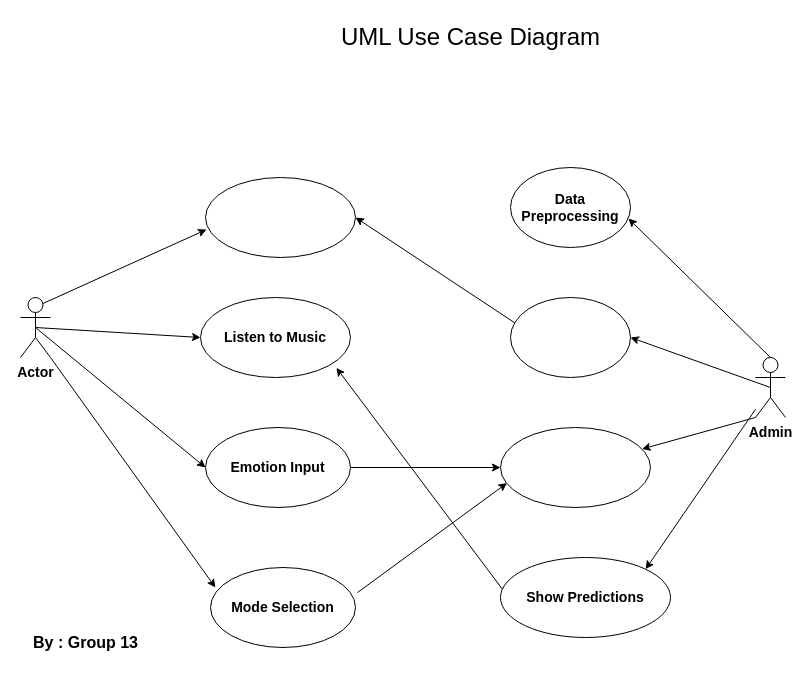
Image size: 810x674. Some labels were removed from this diagram. Here are the shapes that lost their labels. From the top down, the centre of each, then its label:
point (280, 217): User Interface
point (570, 337): Generate Recommendations
point (575, 467): Gather User data
